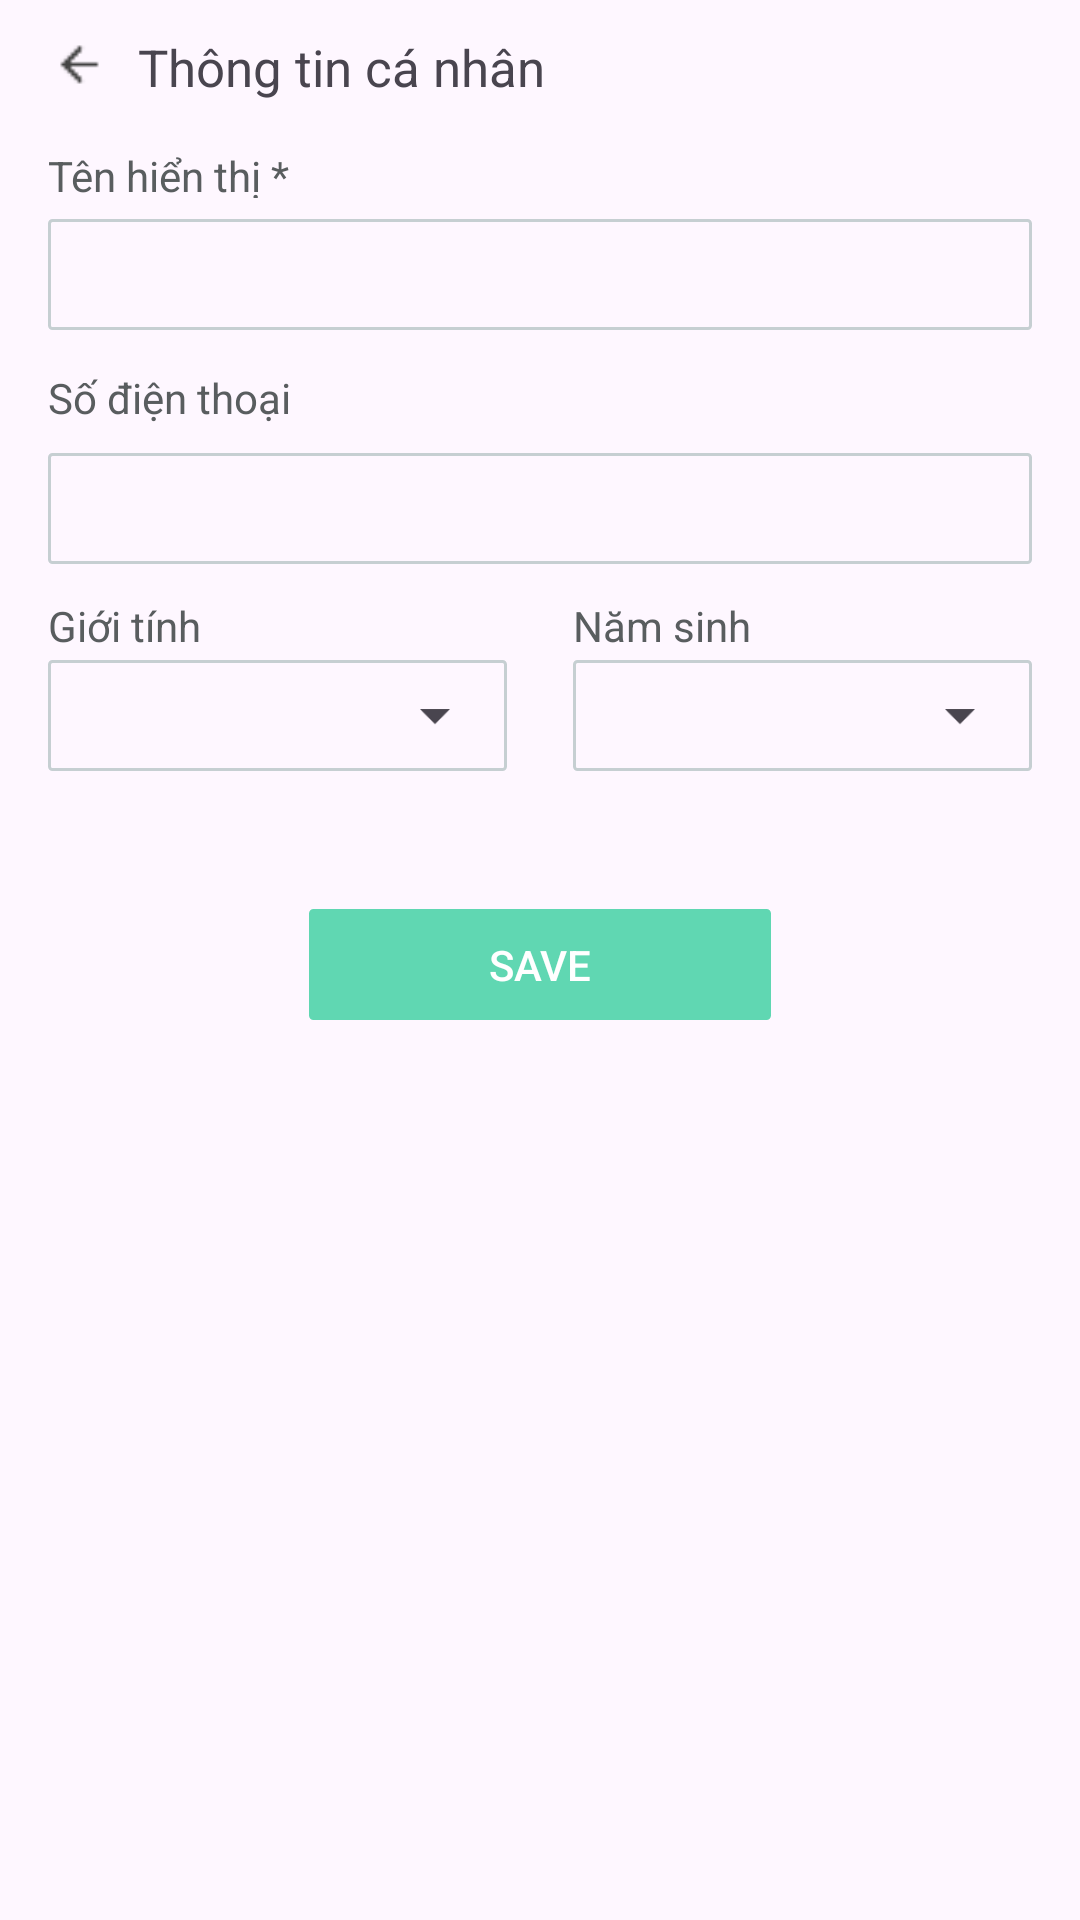

Icon bounding boxes for this 1080*1920 phone screenshot, format (x1, y1, x2, y2):
back: (60, 45, 99, 84)
